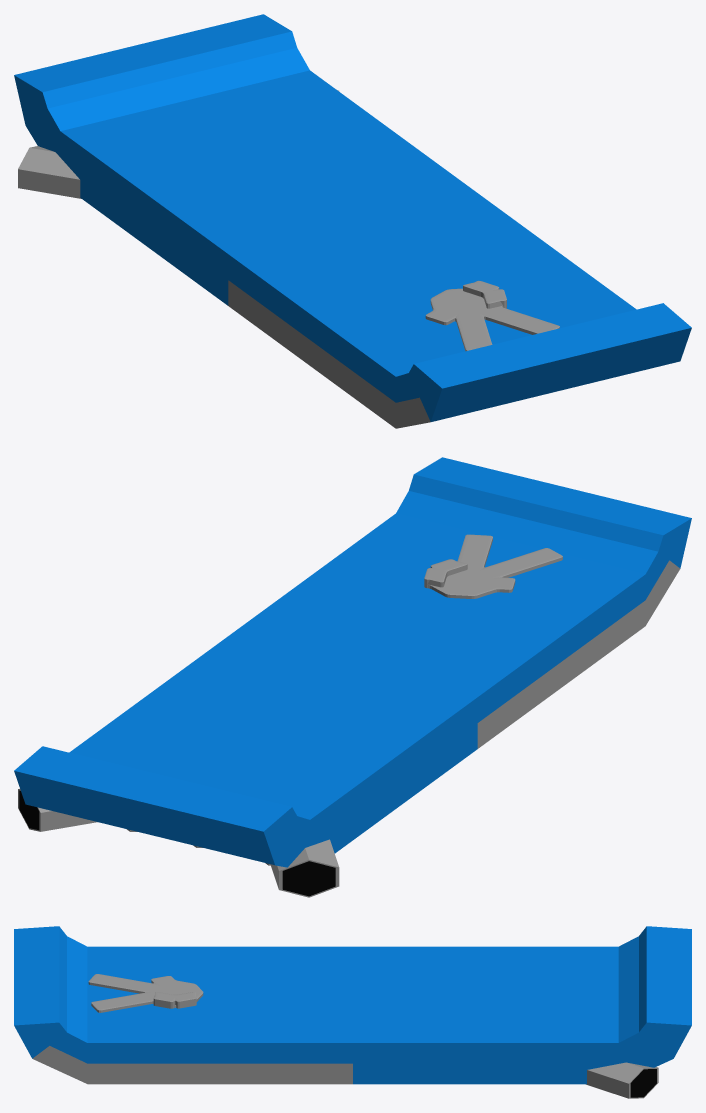
Rendered from FixiBoard.fbx.
The picture shows the model from 3 angles, top to bottom: view 1: azimuth 30°, elevation 25°; view 2: azimuth 150°, elevation 25°; view 3: azimuth 270°, elevation 25°; orthographic projection. The views are drawn at different scales.
Parts seen in each view (by area): view 1: FixiBoard; view 2: FixiBoard; view 3: FixiBoard.
Part boxes in pixels (bbox=[...]): FixiBoard: bbox=[14, 14, 691, 428]; FixiBoard: bbox=[14, 457, 691, 897]; FixiBoard: bbox=[14, 926, 691, 1098].
Bounding box in the file's own units: 257 × 71.12 × 594.
